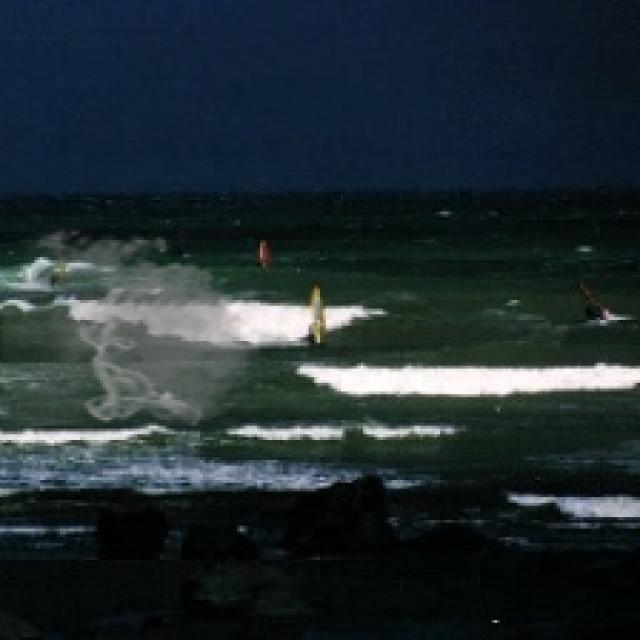smoke: (3, 223, 274, 428)
